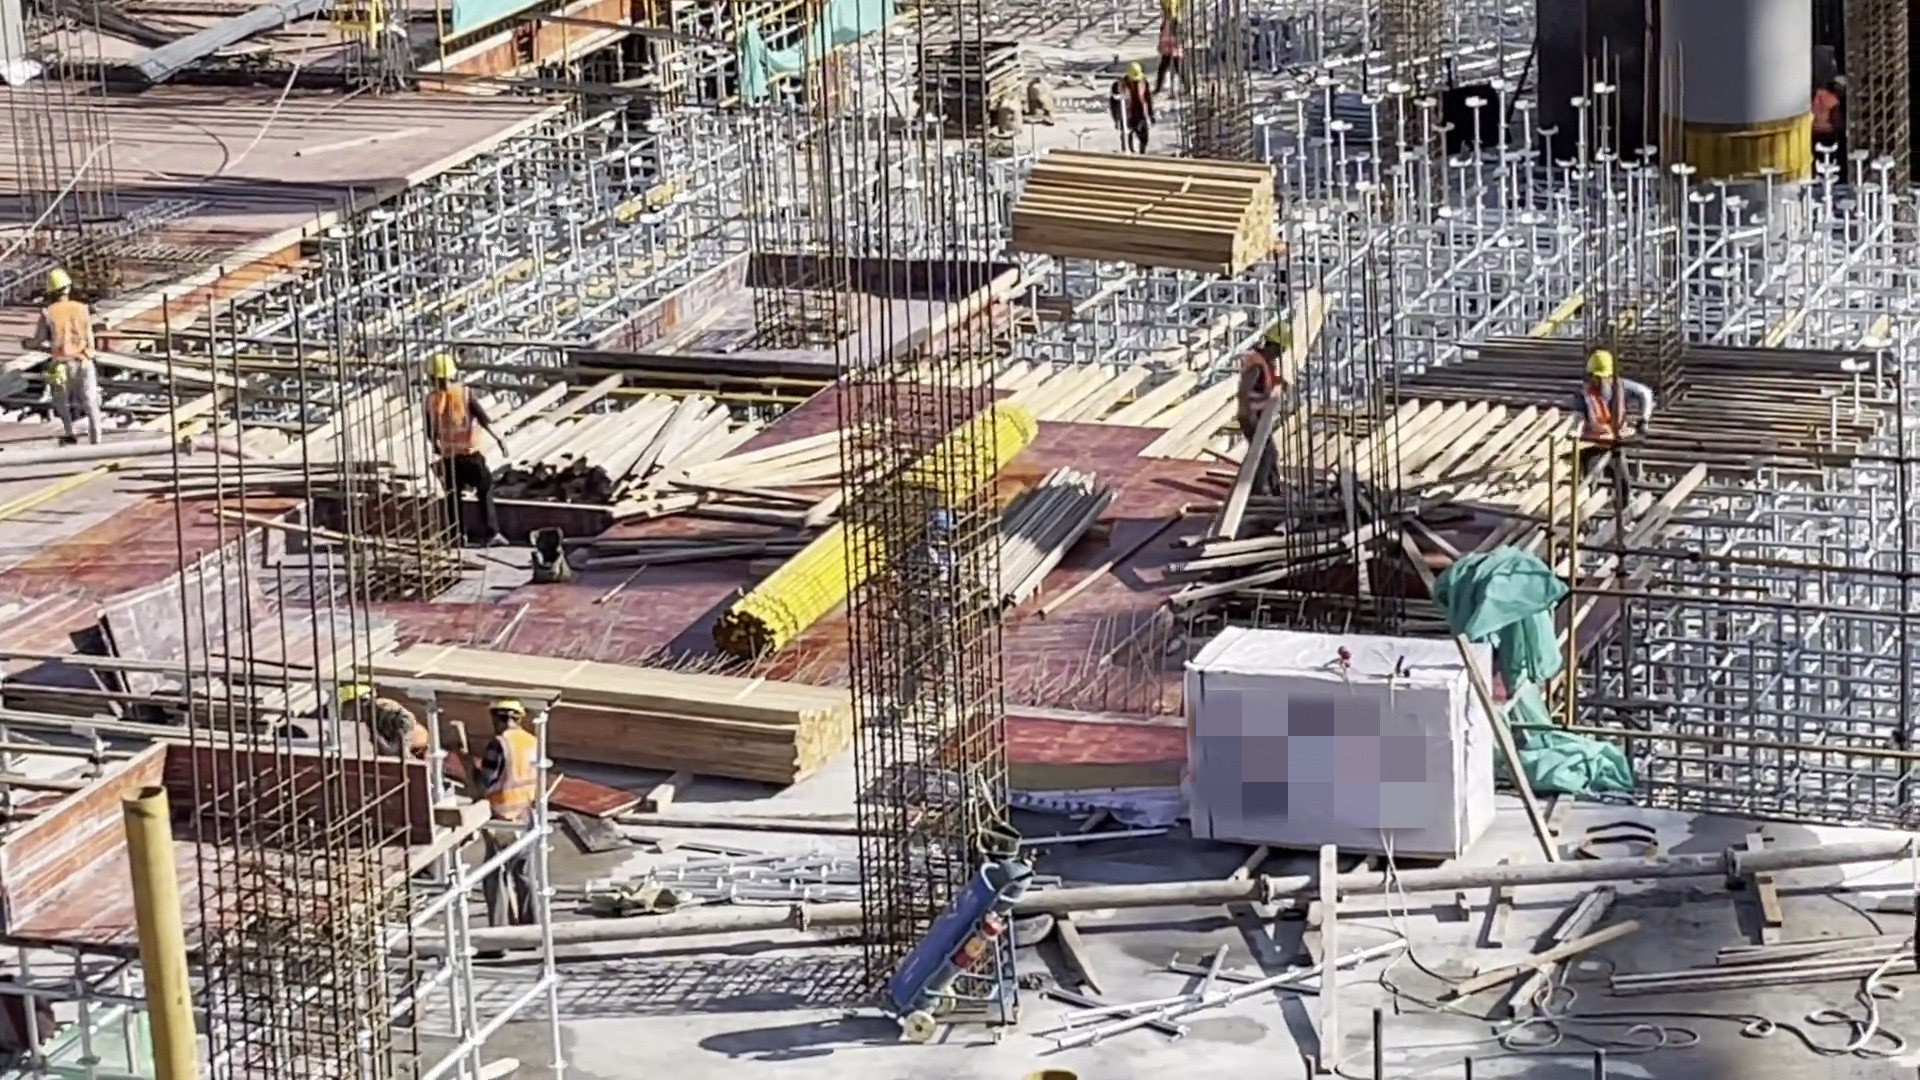ebox: (332, 1, 385, 61)
helmet: (1584, 352, 1618, 381), (425, 354, 459, 381), (1262, 323, 1295, 351), (42, 269, 73, 292), (1124, 61, 1143, 82)
person: (456, 690, 556, 922), (892, 509, 968, 730), (32, 261, 109, 459), (419, 349, 495, 537), (1575, 347, 1650, 510), (1232, 322, 1293, 483), (332, 684, 435, 754), (1108, 60, 1157, 155), (1153, 1, 1197, 91), (1812, 75, 1846, 155)
rebar: (129, 1, 333, 103)
vest: (480, 728, 542, 818), (430, 388, 474, 469), (1235, 352, 1276, 434), (40, 303, 87, 373), (1117, 76, 1150, 127), (1813, 89, 1838, 135)
wood: (501, 381, 841, 526), (554, 647, 858, 786), (1004, 147, 1282, 279)
